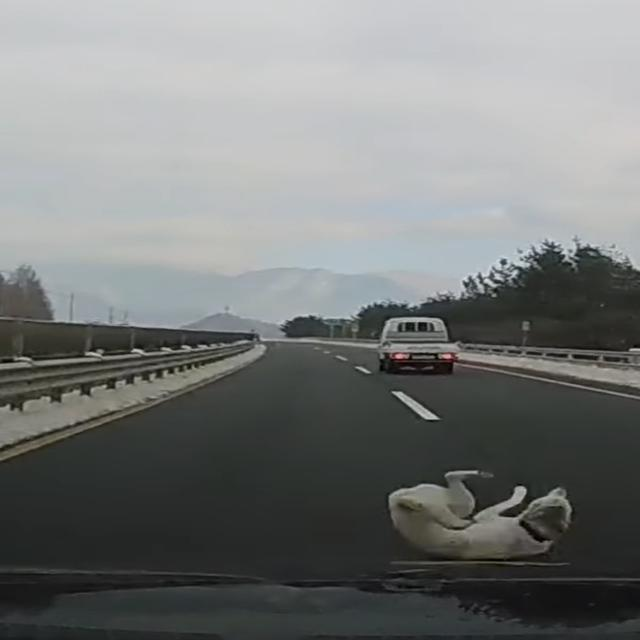dog: (356, 454, 603, 574)
